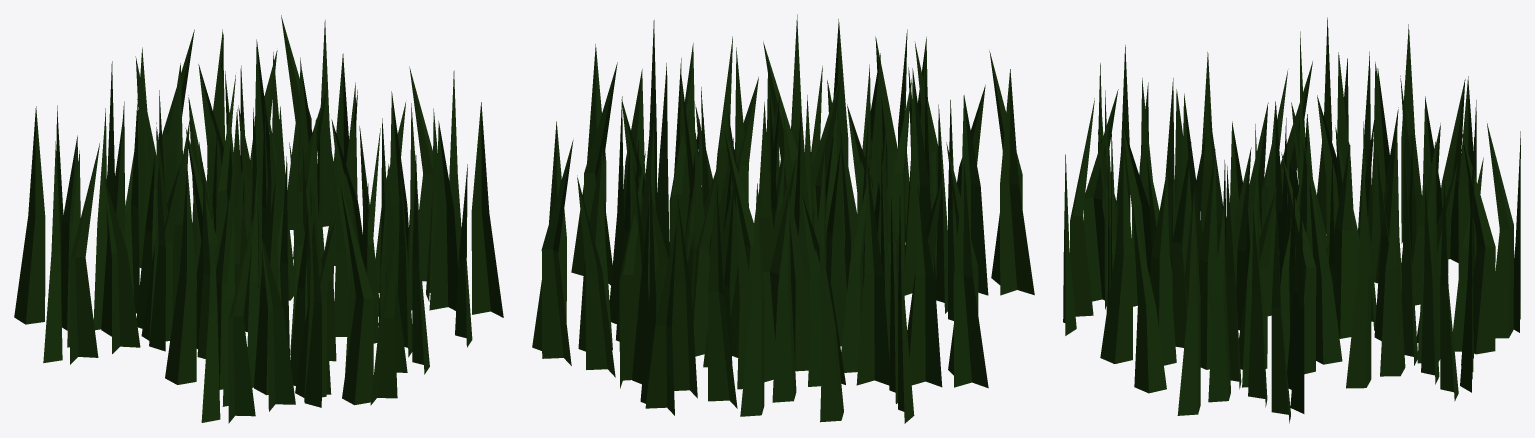
The model's file is grass1.fbx.
The picture shows the model from 3 angles, left to right: view 1: azimuth 30°, elevation 25°; view 2: azimuth 150°, elevation 25°; view 3: azimuth 270°, elevation 25°; orthographic projection. The views are drawn at different scales.
Parts seen in each view (by area): view 1: Plane.747; view 2: Plane.747; view 3: Plane.747.
Part boxes in pixels (x1=…): Plane.747: x1=14, y1=15, x2=503, y2=423; Plane.747: x1=532, y1=14, x2=1034, y2=423; Plane.747: x1=1063, y1=17, x2=1520, y2=423.
Size of the model in its own units: 60.32 by 30.52 by 58.1.
